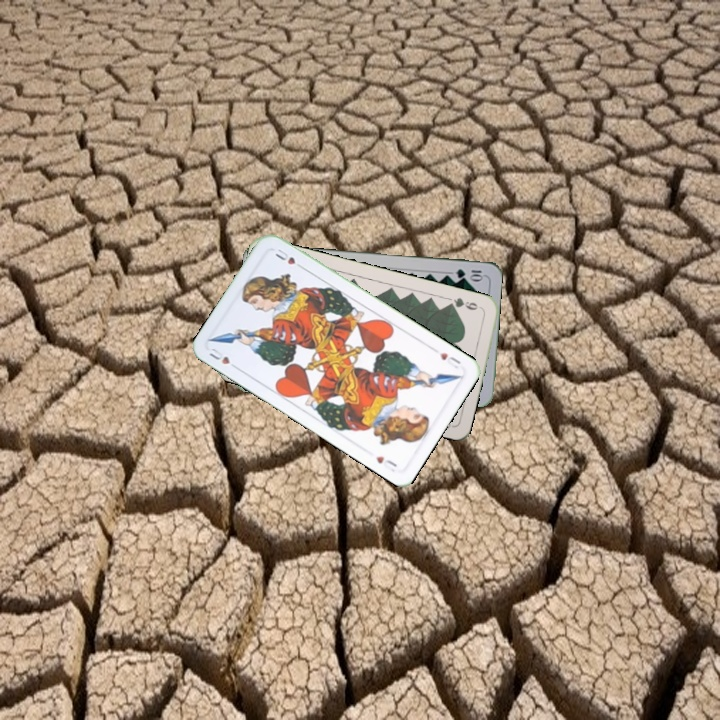G10: (452, 265, 485, 282)
G9: (444, 293, 485, 313)
HU: (204, 344, 241, 372), (435, 348, 464, 371)
